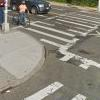Crosswalk: (30, 14, 100, 64)
